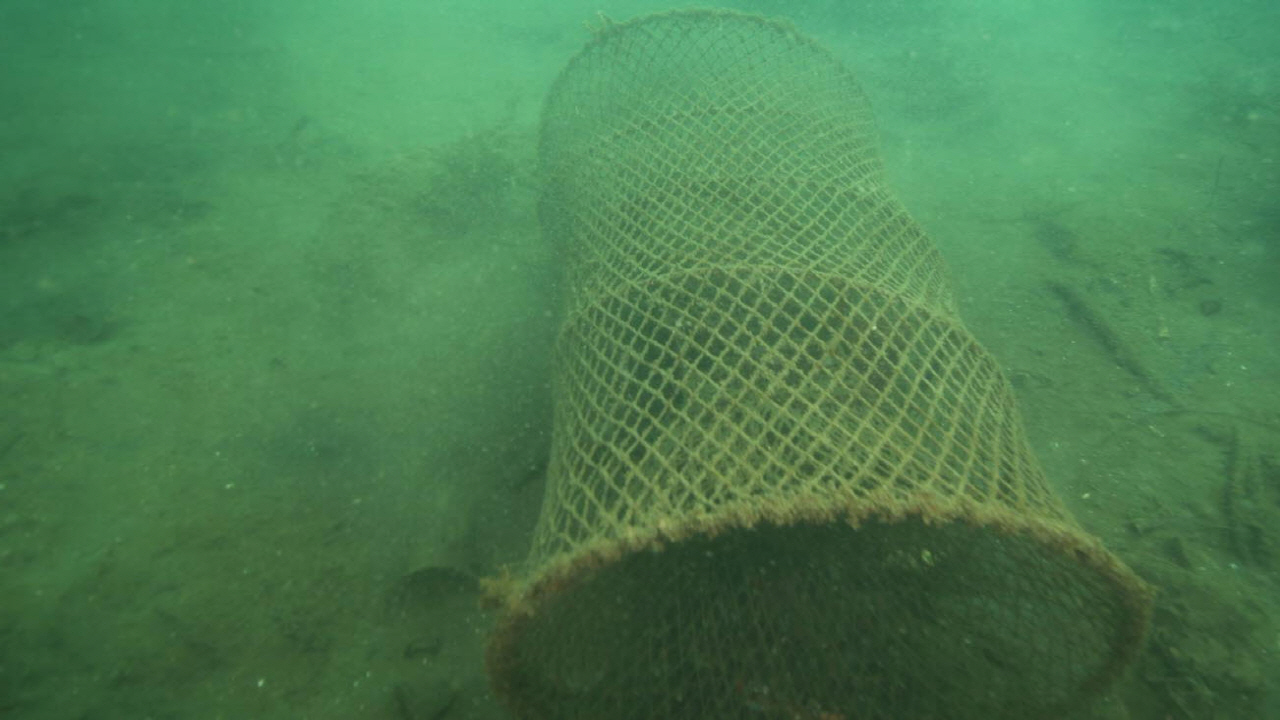spring fish trap: (484, 8, 1148, 720)
